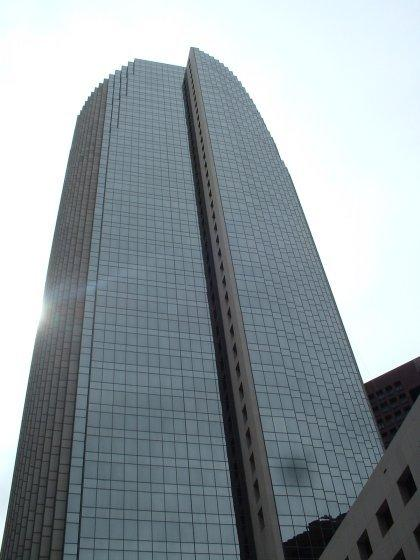building: (0, 48, 390, 560), (324, 391, 420, 560)
